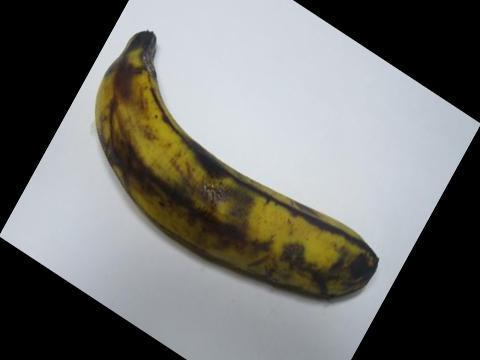overripe: (97, 26, 400, 318)
